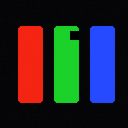1 square: (70, 31, 78, 39)
